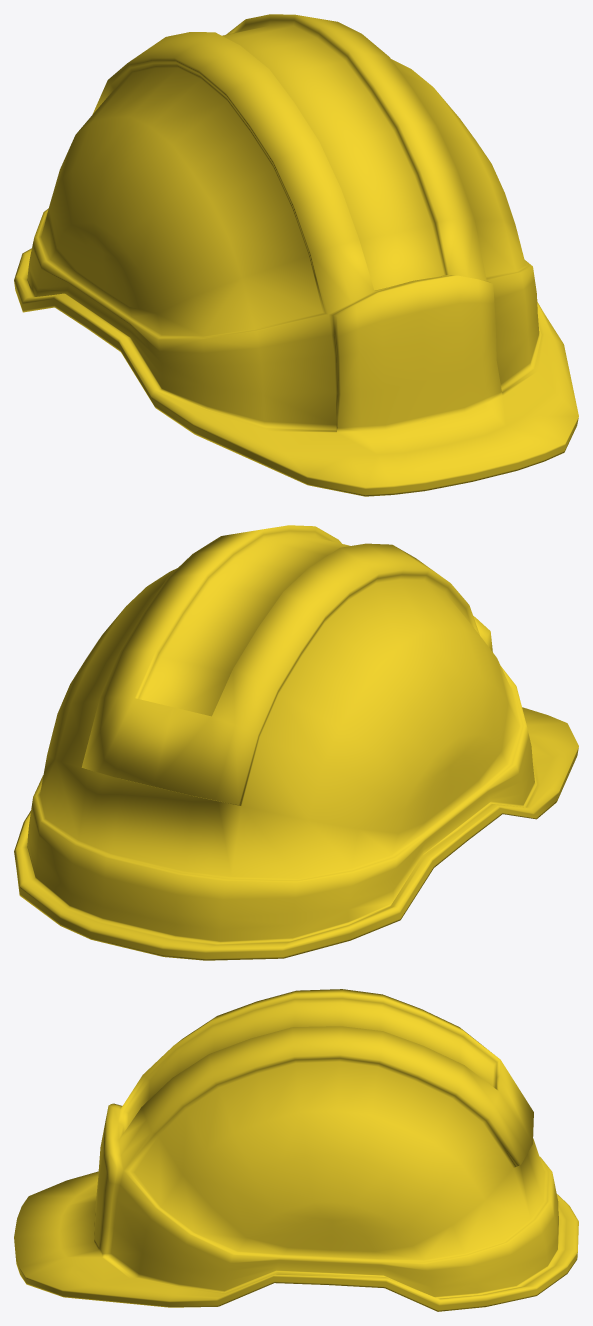
The model's file is construction_helmet.glb.
3 renders of one model, top to bottom at view 1: azimuth 30°, elevation 25°; view 2: azimuth 150°, elevation 25°; view 3: azimuth 270°, elevation 25°, orthographic. The views are drawn at different scales.
Visible parts, largest first — view 1: Helmet; view 2: Helmet; view 3: Helmet.
Part boxes in pixels (bbox=[...]): Helmet: bbox=[14, 14, 578, 496]; Helmet: bbox=[14, 525, 578, 960]; Helmet: bbox=[14, 989, 578, 1311].
Bounding box in the file's own units: 0.1768 × 0.1288 × 0.275.
Materials: 1 (1 with a texture image).
